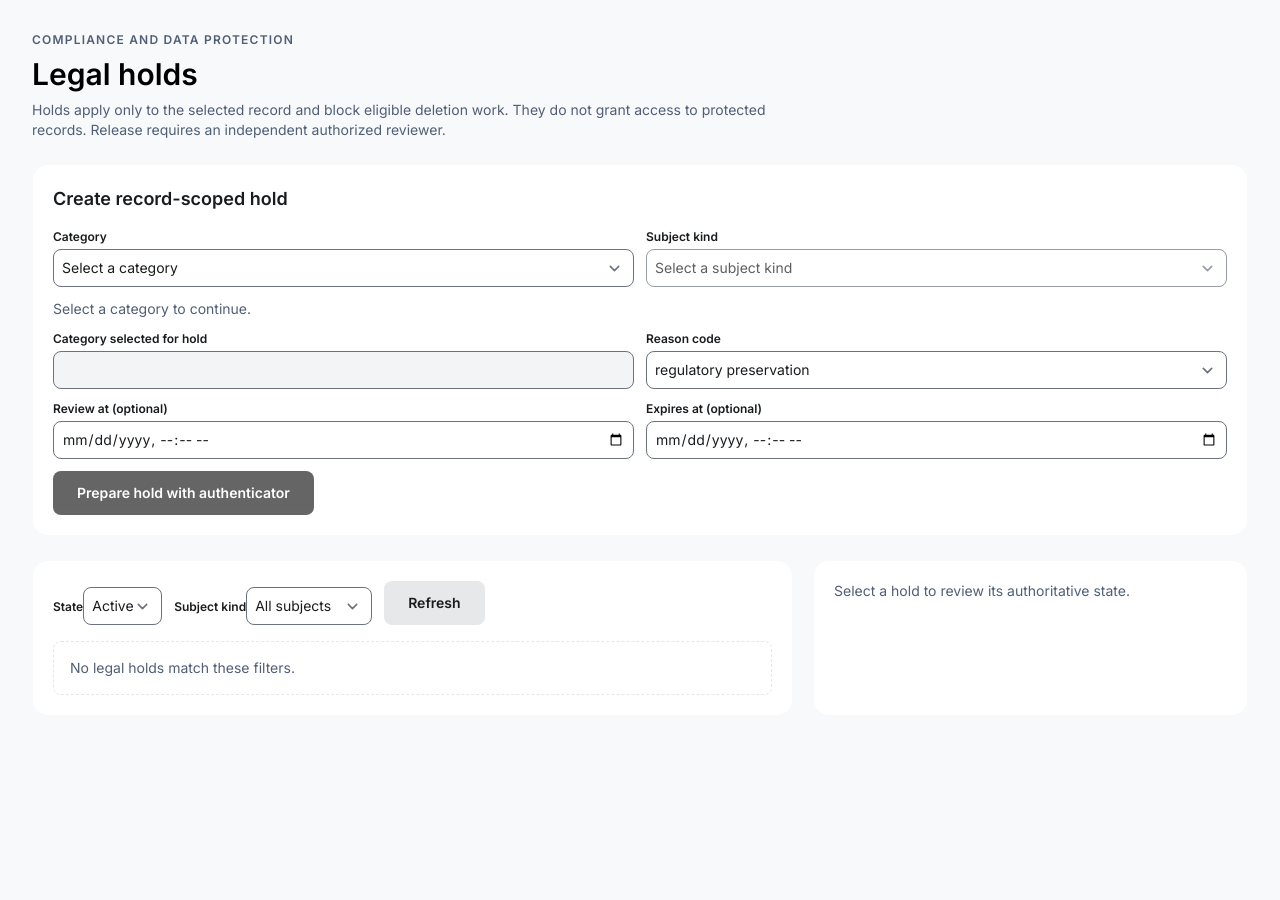
Test: admin legal-hold subject selector › retains valid category and kind selections after the documented 422 lookup error
Select "Account and profile" in the dropdown labelled "Category" at {"x": 344, "y": 268}, box [53,249,634,287]
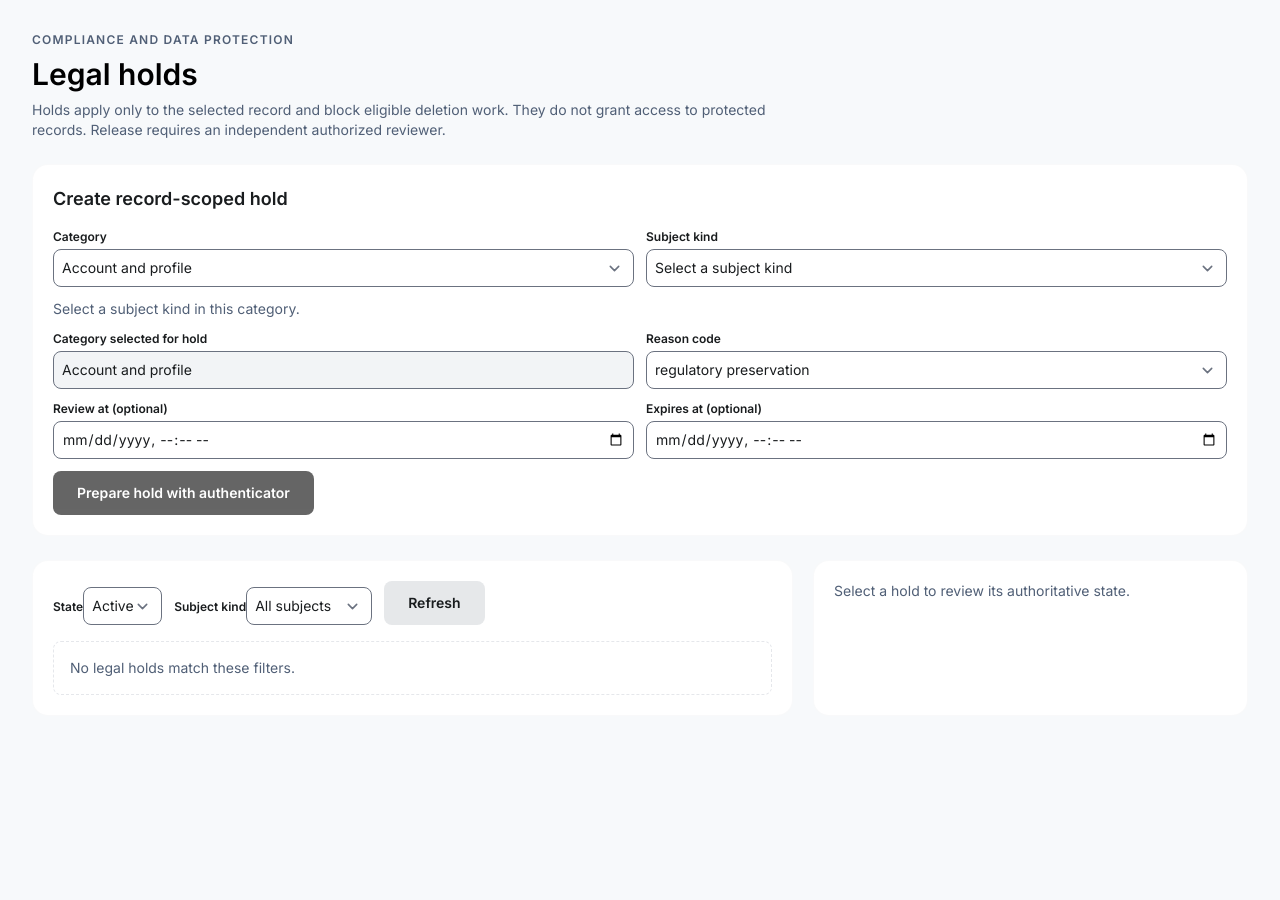
Select "Profile" in the 1st dropdown labelled "Subject kind" at {"x": 936, "y": 268}, box [646,249,1227,287]
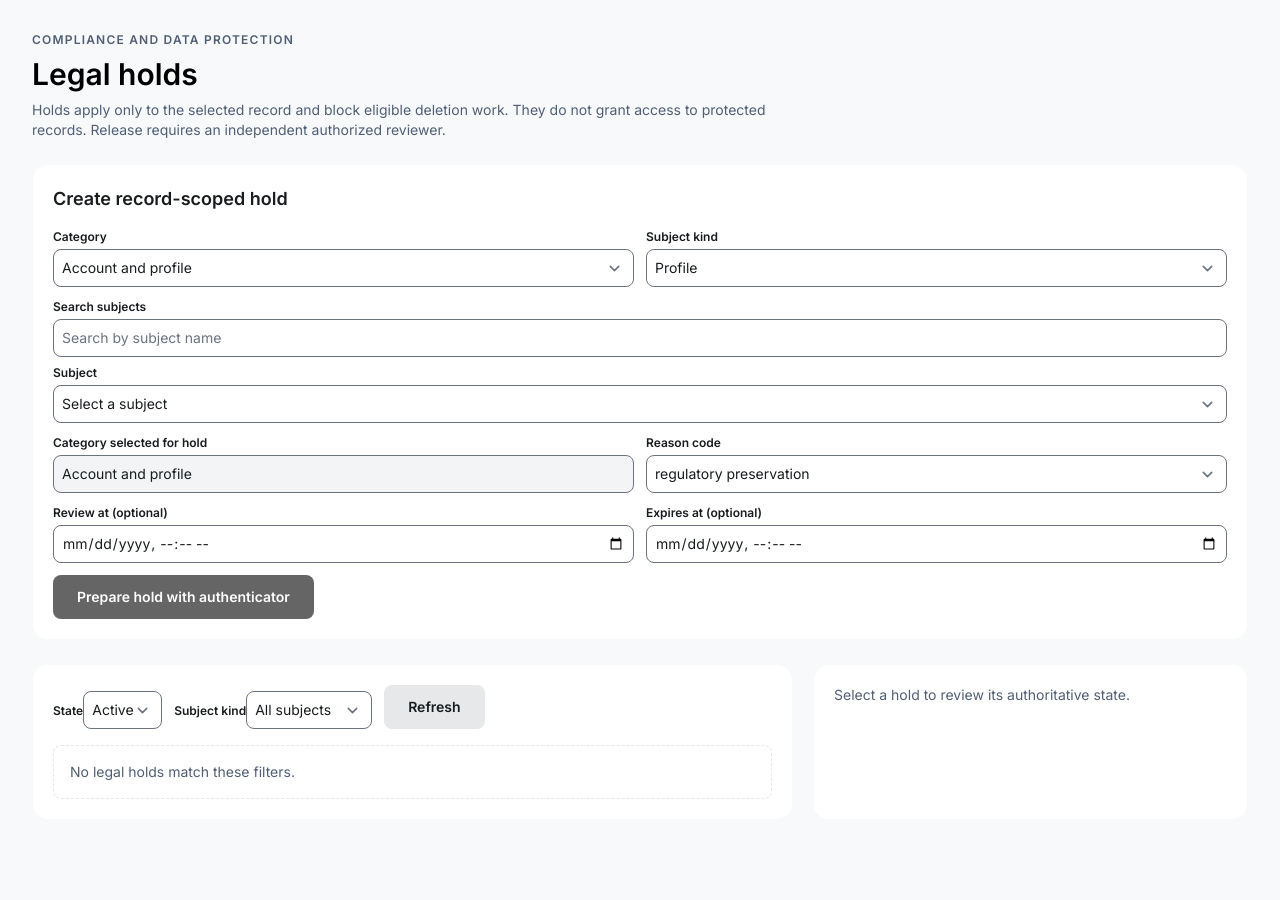
Type "invalid-input" into the field labelled "Search subjects" at {"x": 640, "y": 338}, box [53,319,1227,357]
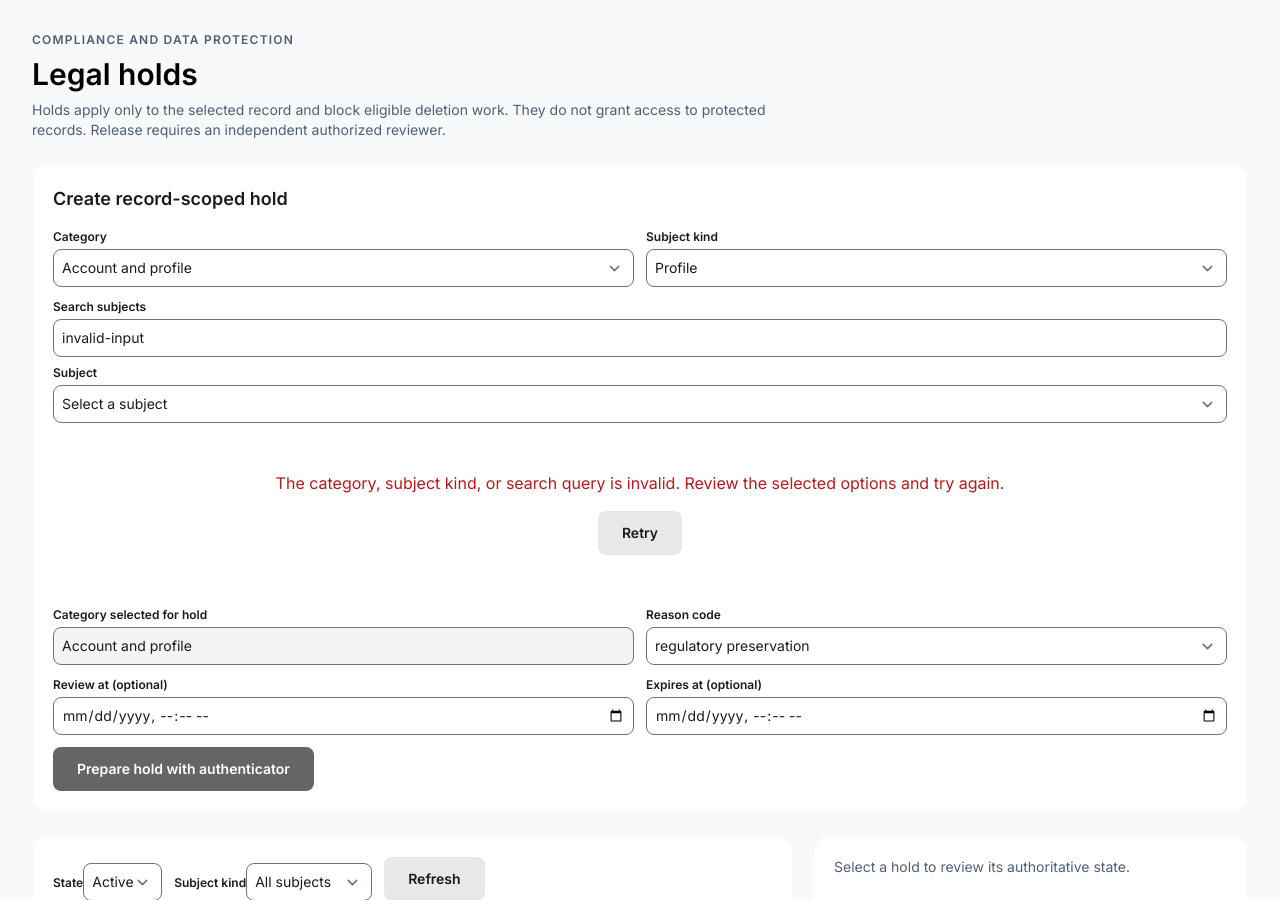
Result: the text "The category, subject kind, or search query is invalid" is shown at [276,473,1004,493]
